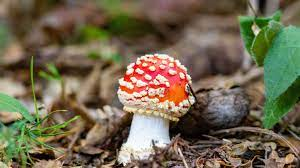Amanita muscaria: (103, 43, 204, 164)
